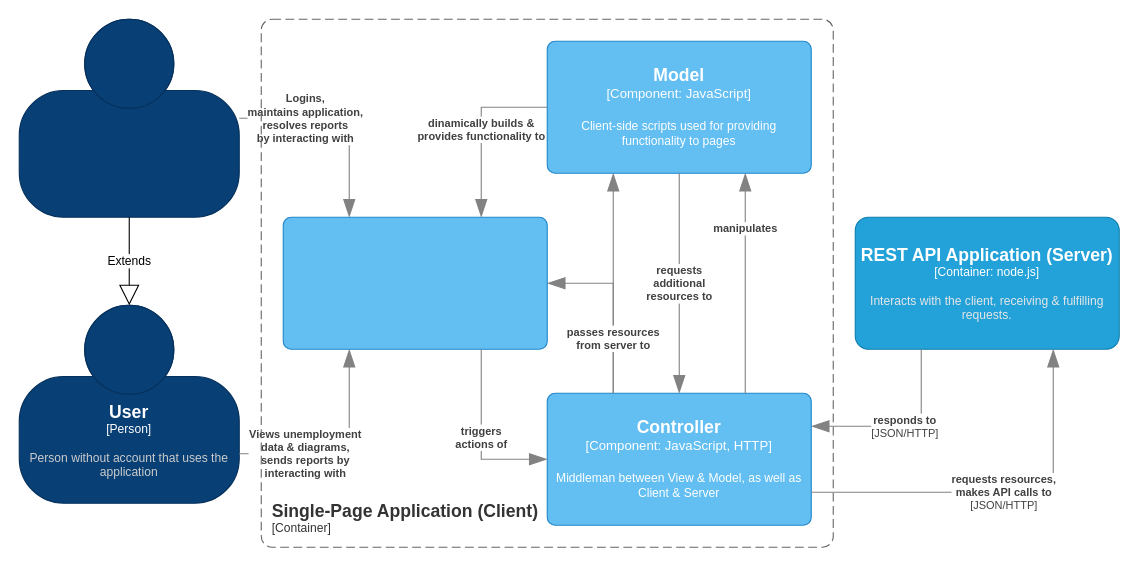
Some shapes in this 1139 by 567 pixel diagram are drawn without their labels. Each missing label, with the centre of its shape:
Admin [Person] Person with administrator account that maintains the application: (x=128, y=117)
View [Component: HTML, CSS] User Interface: pages and their components: (x=414, y=282)
